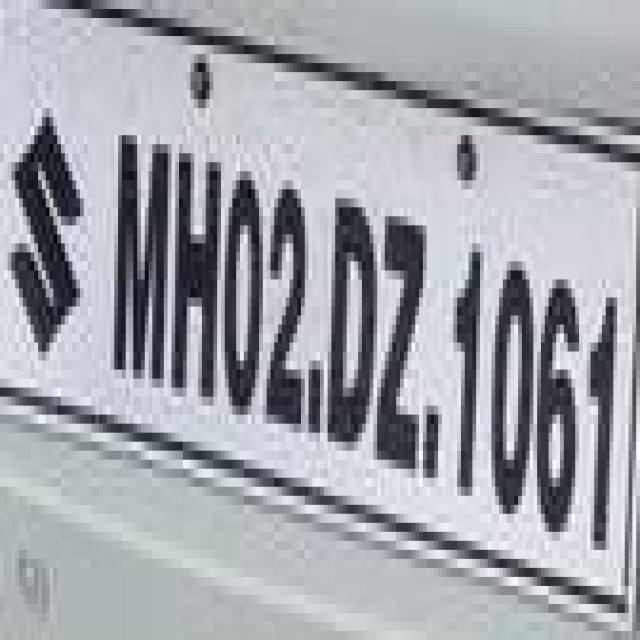0: (488, 253, 538, 516), (224, 160, 264, 422)
1: (582, 274, 626, 574), (447, 235, 490, 504)
6: (538, 257, 590, 543)
D: (326, 186, 378, 448)
H: (174, 130, 224, 392)
M: (108, 125, 170, 379)
Z: (376, 188, 426, 481)
